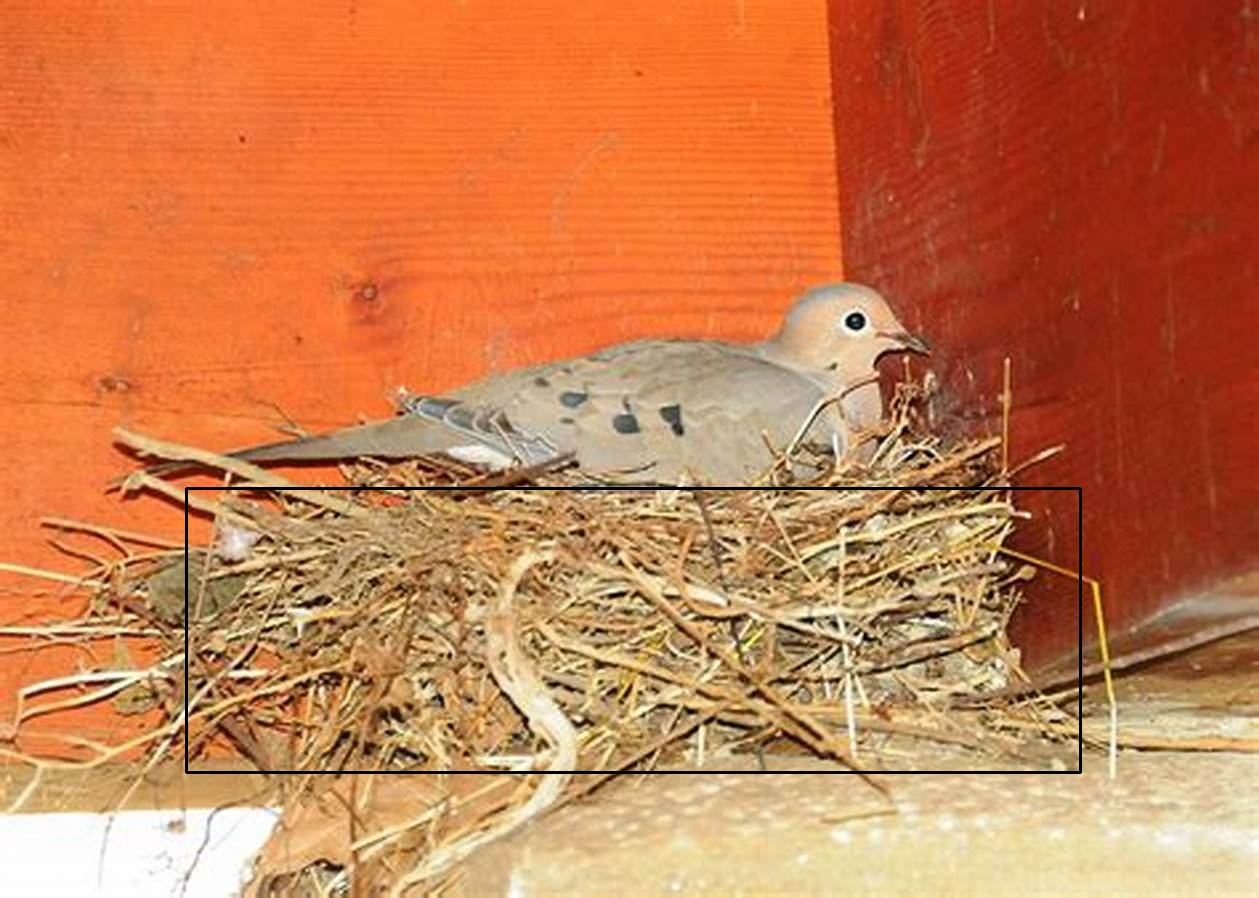bird-nest: (186, 488, 1080, 772)
